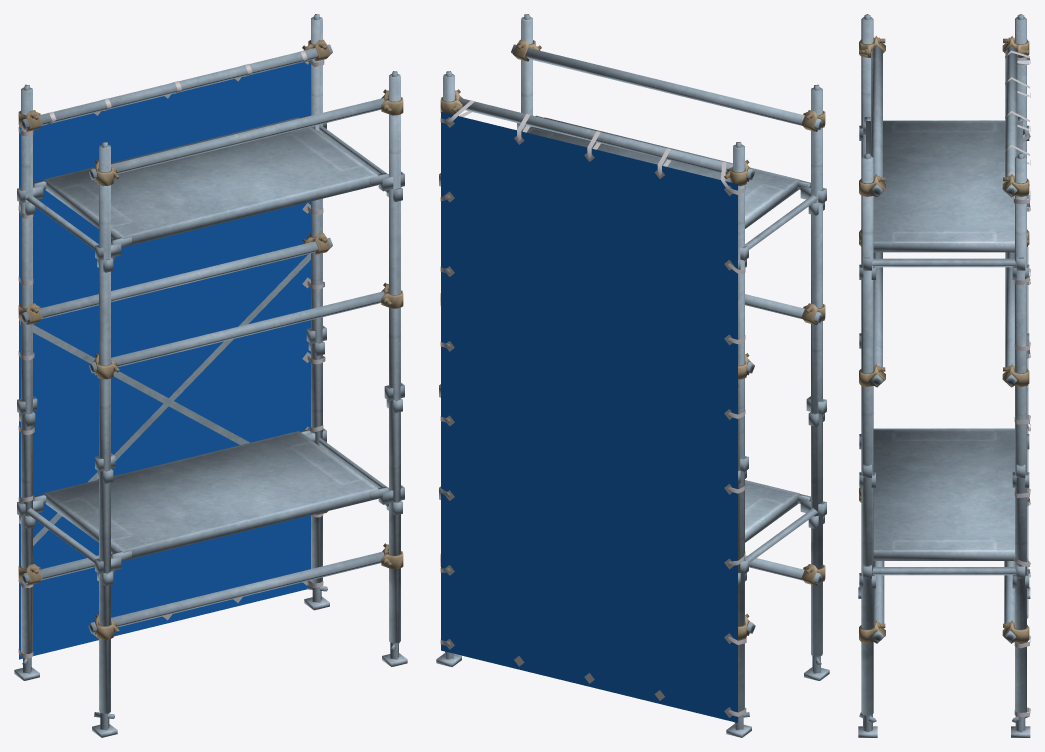
The model's file is monument-scaffold.glb.
3 renders of one model, left to right at view 1: azimuth 30°, elevation 25°; view 2: azimuth 150°, elevation 25°; view 3: azimuth 270°, elevation 25°, orthographic.
Visible parts, largest first — view 1: Buckle_Top_low__mBody-mesh, Rope_Top_low__mReFabric-mesh, Hole_Rv_low__mReFabric-mesh; view 2: Rope_Top_low__mReFabric-mesh, Buckle_Top_low__mBody-mesh, Hole_Rv_low__mReFabric-mesh; view 3: Buckle_Top_low__mBody-mesh, Hole_Rv_low__mReFabric-mesh.
Part boxes in pixels (<box>): Buckle_Top_low__mBody-mesh: <box>14,14,407,737</box>; Rope_Top_low__mReFabric-mesh: <box>19,62,310,659</box>; Hole_Rv_low__mReFabric-mesh: <box>18,50,325,658</box>; Rope_Top_low__mReFabric-mesh: <box>441,112,737,722</box>; Buckle_Top_low__mBody-mesh: <box>436,14,829,737</box>; Hole_Rv_low__mReFabric-mesh: <box>440,100,746,717</box>; Buckle_Top_low__mBody-mesh: <box>858,14,1030,737</box>; Hole_Rv_low__mReFabric-mesh: <box>1005,50,1030,717</box>.
Size of the model in its own units: 20 by 36.77 by 9.91.
Materials: 2 (2 with a texture image).
